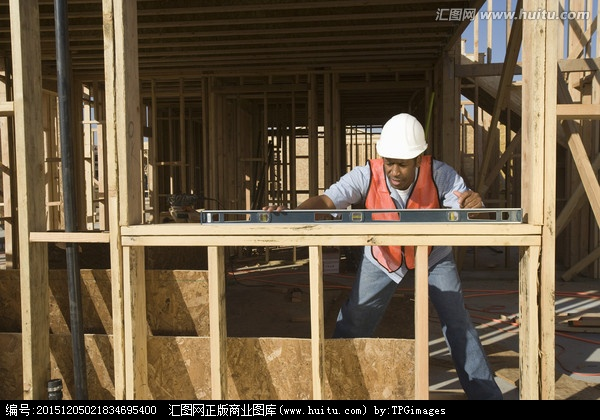white: (373, 112, 431, 192)
